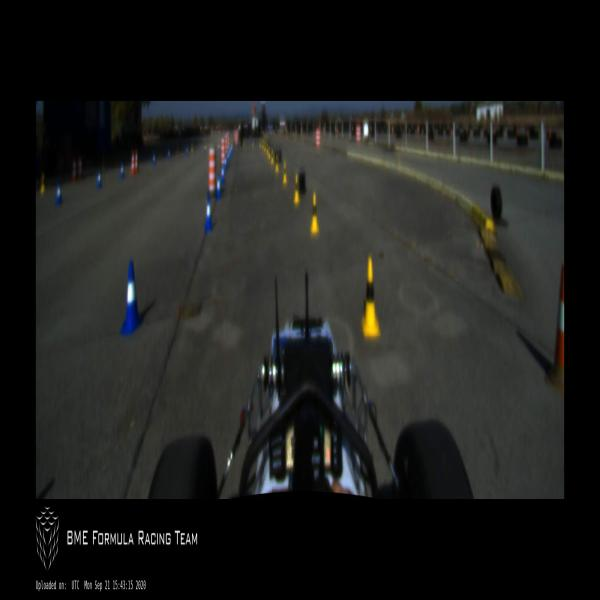blue_cone: (120, 260, 144, 335), (204, 196, 212, 232), (56, 182, 62, 204), (216, 174, 221, 199), (97, 169, 101, 188), (221, 166, 225, 182), (120, 163, 124, 179), (152, 152, 156, 165), (224, 157, 227, 169), (167, 148, 170, 160), (228, 151, 230, 163), (229, 149, 231, 159), (186, 146, 188, 156), (231, 147, 232, 154)
large_orange_cone: (77, 155, 82, 181), (72, 156, 76, 182), (130, 152, 134, 174), (135, 152, 138, 174)
unknown_cone: (545, 265, 564, 395)
yellow_cone: (360, 255, 380, 339), (310, 193, 319, 234), (294, 175, 300, 204), (282, 161, 288, 184), (40, 174, 46, 193), (275, 156, 279, 173), (271, 150, 274, 164), (268, 147, 270, 159), (264, 142, 266, 152), (191, 142, 193, 152), (252, 139, 254, 148), (242, 139, 244, 147), (267, 144, 268, 155), (262, 140, 263, 148), (260, 139, 261, 147)
